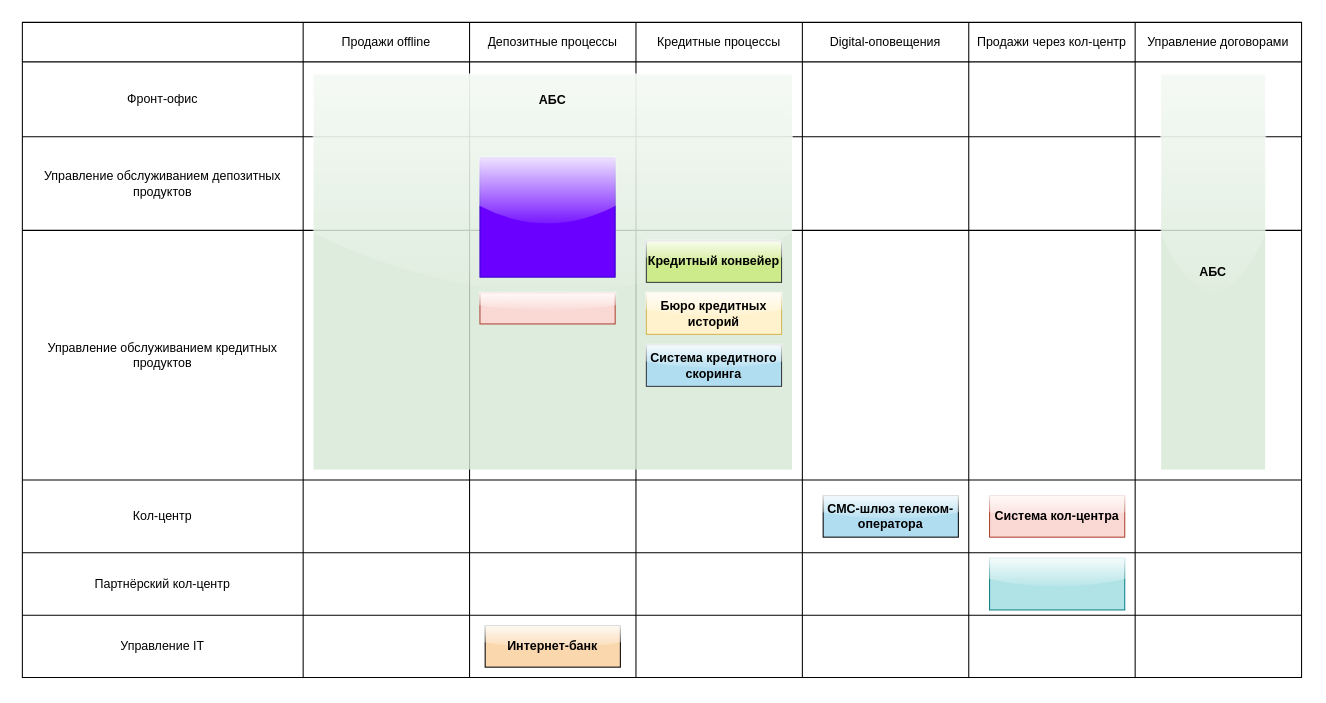
Some shapes in this 1326 by 703 pixel diagram are drawn without their labels. Here are the shapes that lost their labels. From the top down, the centre of each, then its label:
point (547, 217): Email (обмен данными)
point (547, 308): Excel (расчёт ставок)
point (1057, 583): Система партнёрского кол-центра
